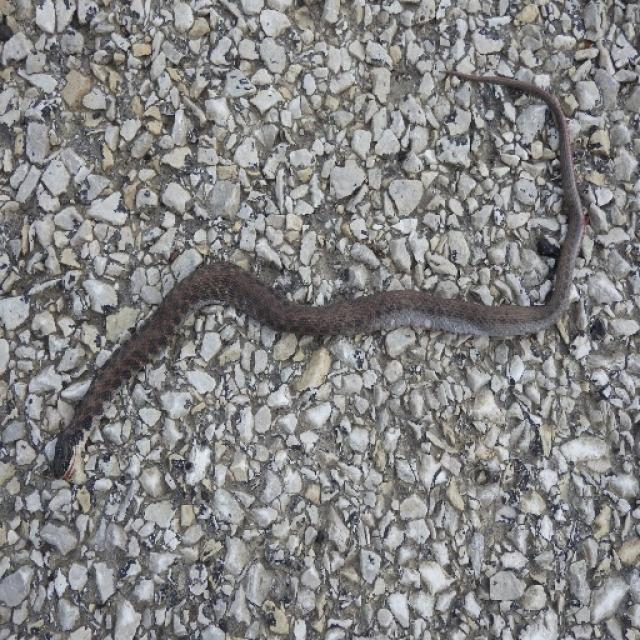snake: (54, 58, 597, 466)
